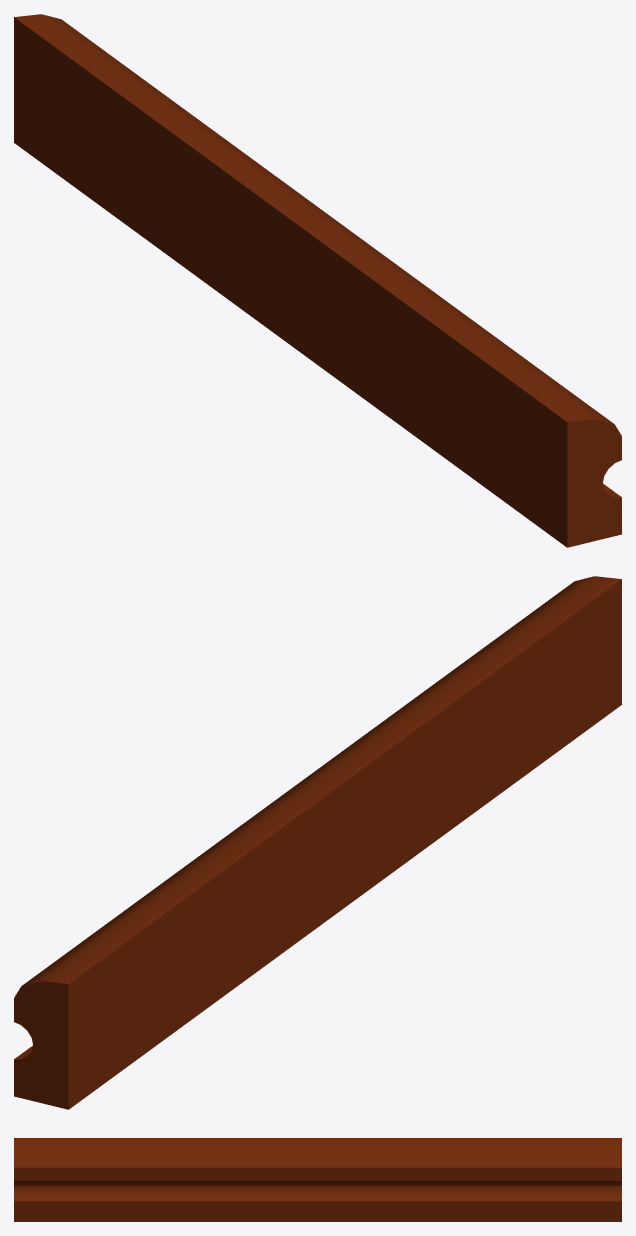
The model's file is Rodape.fbx.
The picture shows the model from 3 angles, top to bottom: view 1: azimuth 30°, elevation 25°; view 2: azimuth 150°, elevation 25°; view 3: azimuth 270°, elevation 25°; orthographic projection. The views are drawn at different scales.
Parts seen in each view (by area): view 1: Cube; view 2: Cube; view 3: Cube.
Boxes of the visible parts, x1=… form: Cube: x1=14, y1=14, x2=621, y2=547; Cube: x1=14, y1=576, x2=621, y2=1109; Cube: x1=14, y1=1138, x2=621, y2=1221.
Size of the model in its own units: 62.4 by 137 by 1093.
